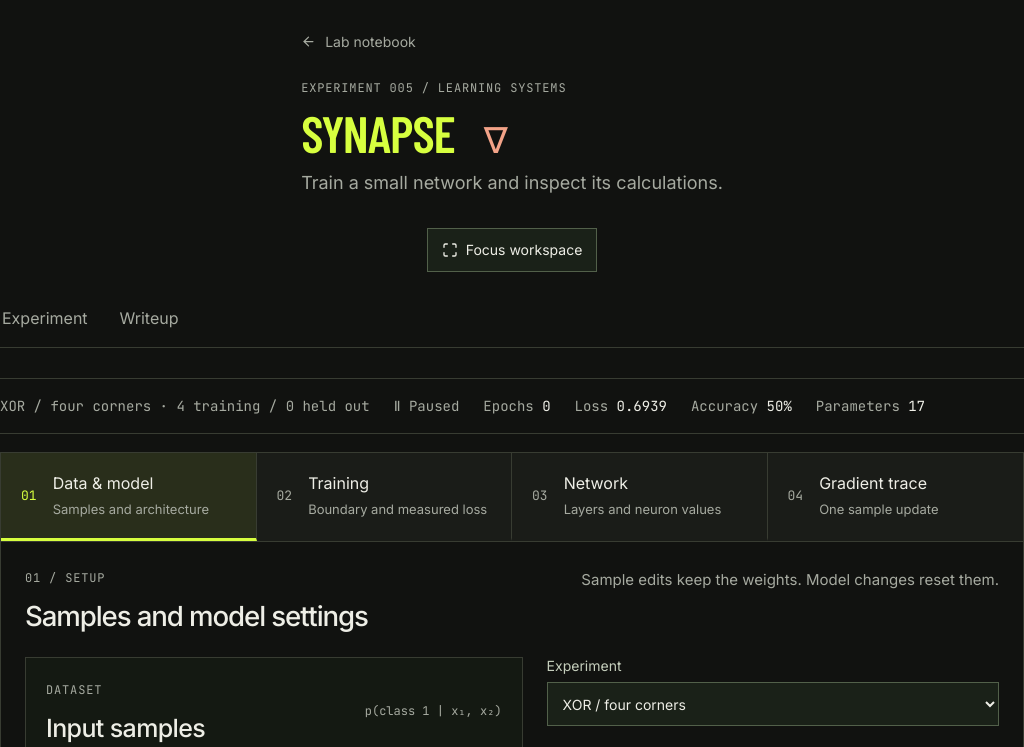
selecting spirals loads a usable optimizer and architecture, and the preset is recoverable
Select "Two spirals" in the dropdown labelled "Experiment". click: (773, 704)
box: x1=547 y1=682 x2=999 y2=726
(page scrolled)
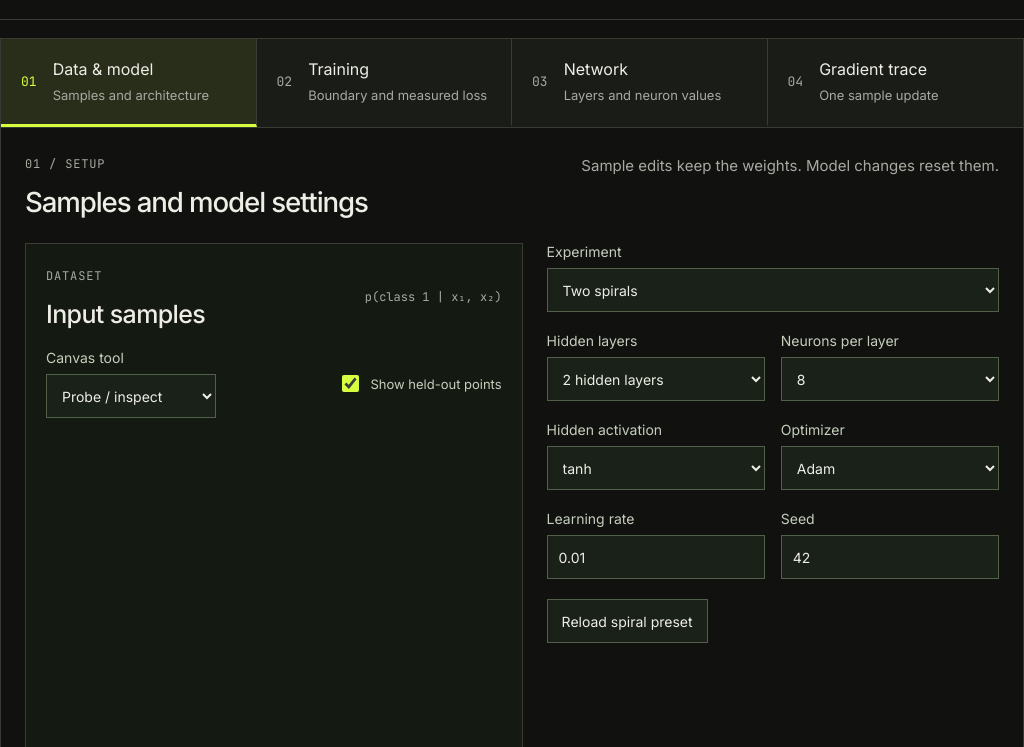
Expected: the dropdown labelled "Hidden layers" shows "2 hidden layers"
Expected: the dropdown labelled "Neurons per layer" shows "8", x1=781 y1=357 x2=999 y2=401
Expected: the dropdown labelled "Optimizer" shows "Adam", x1=781 y1=446 x2=999 y2=490
Select "None / linear model" in the dropdown labelled "Hidden layers". click: (656, 379)
box: x1=547 y1=357 x2=765 y2=401
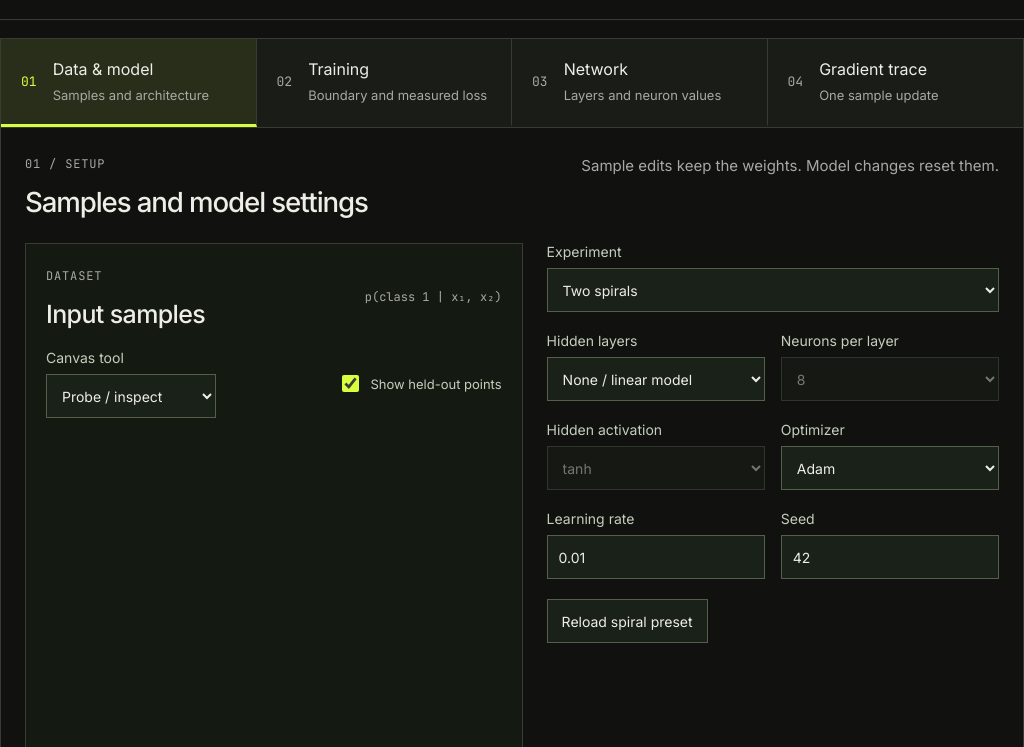
Select "Gradient descent" in the dropdown labelled "Optimizer". click: (890, 468)
box: x1=781 y1=446 x2=999 y2=490
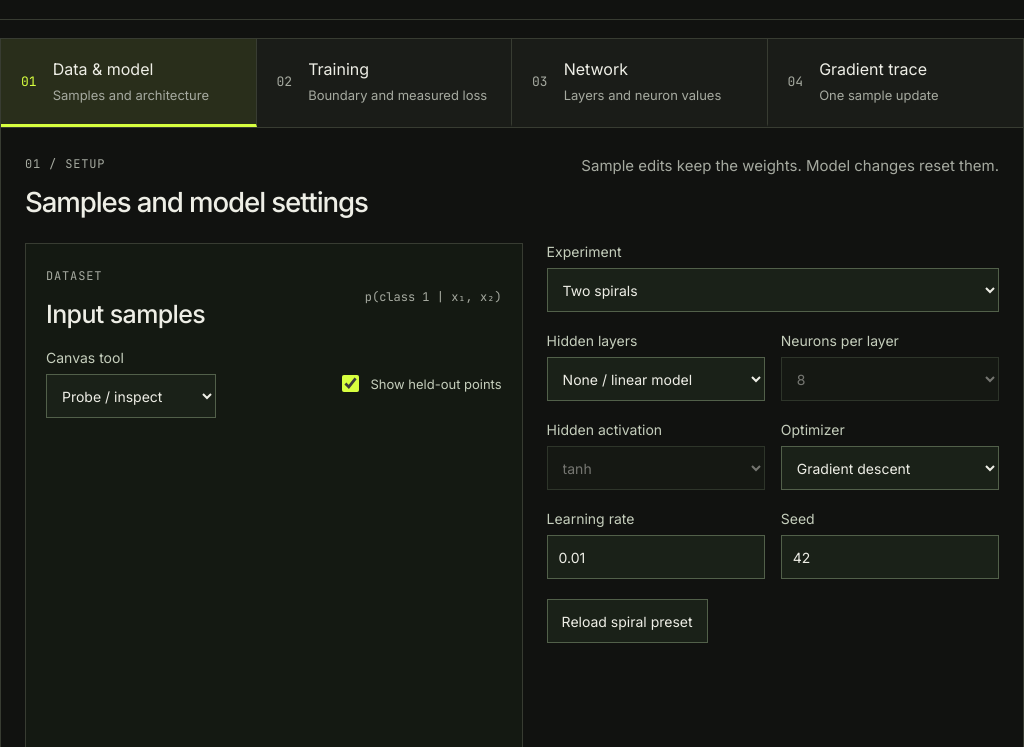
Click the button "Reload spiral preset". click: (627, 621)
box: x1=547 y1=599 x2=708 y2=643
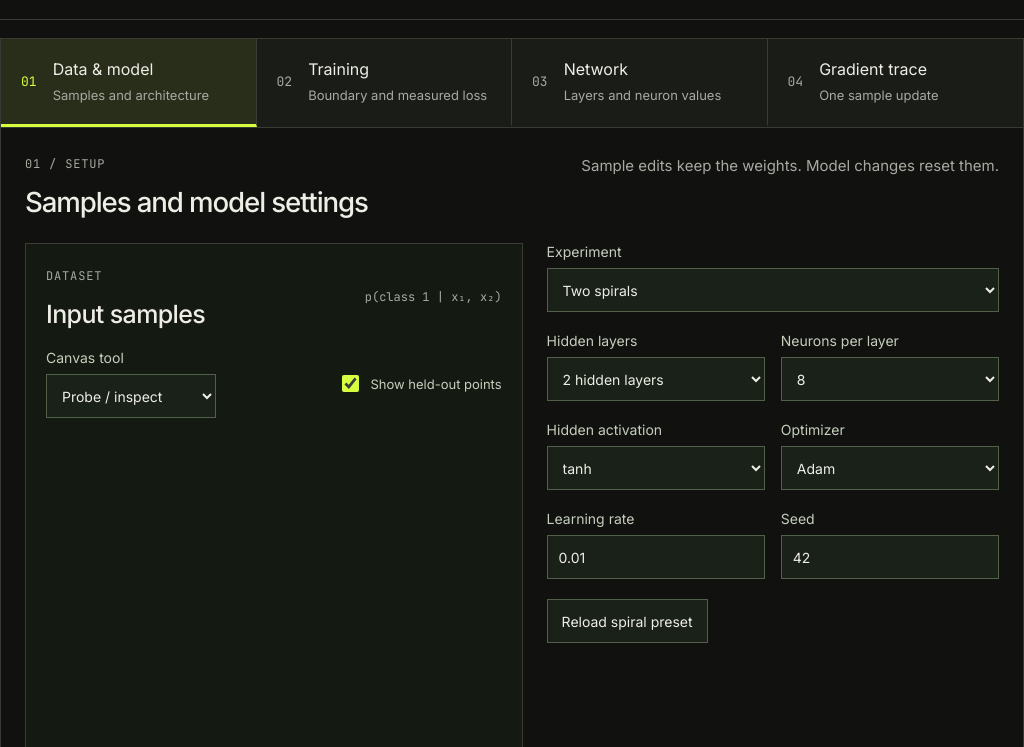
Click the tab "02 Training Boundary and measured loss". click: (384, 83)
box: x1=256 y1=39 x2=512 y2=127
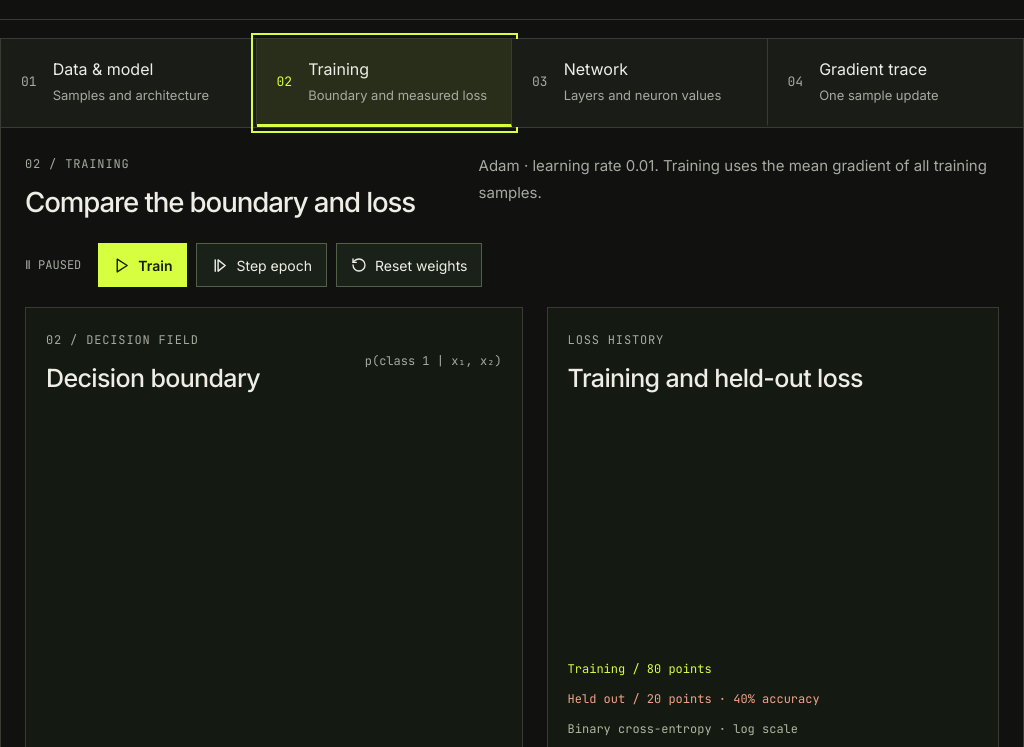
Expected: the button "Train" is shown, x1=98 y1=243 x2=188 y2=287
